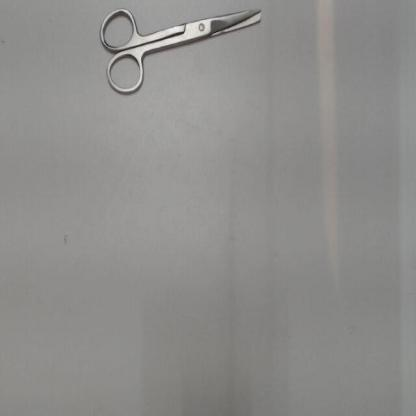Dressing Scissors: (92, 3, 272, 104)
